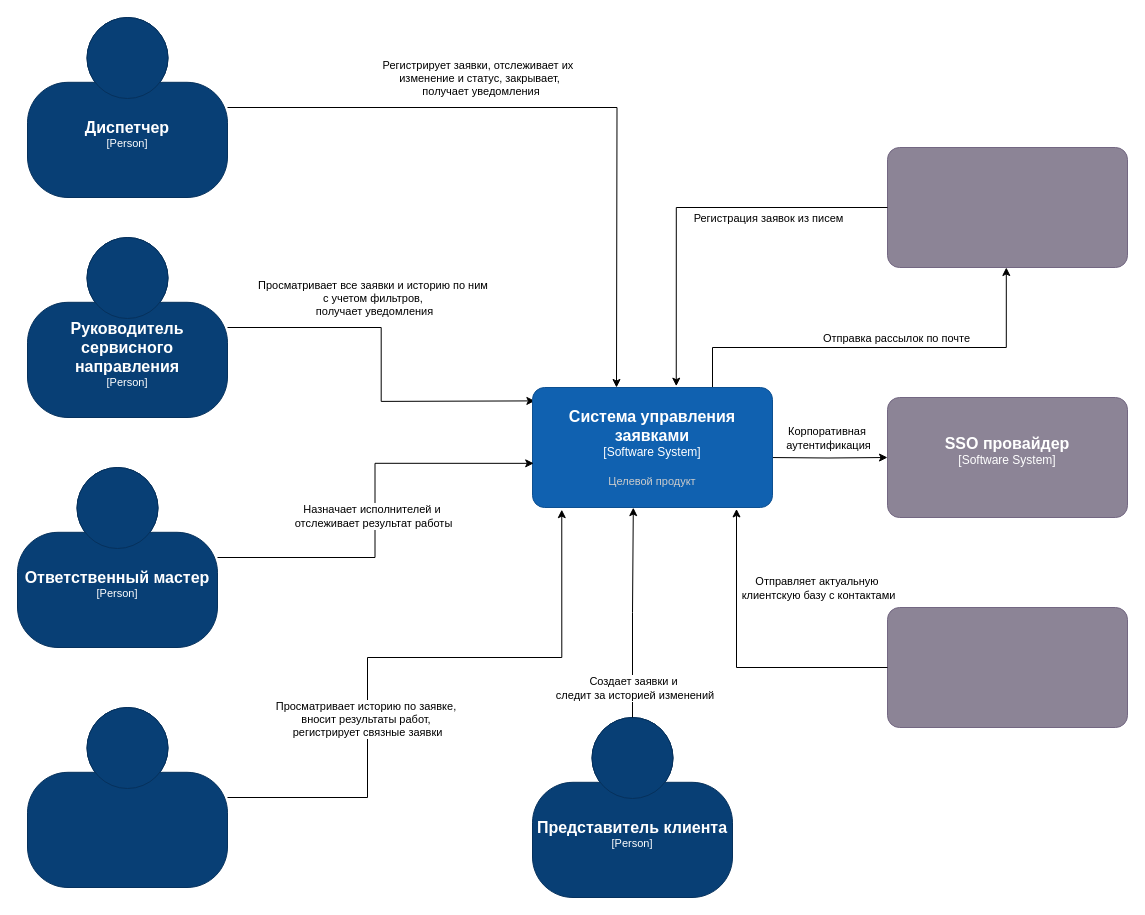
Image size: 1145x915. Some labels were removed from this diagram. The centre of each missing label's shape, as x and y in pixels:
CRM система [Software System]: (1007,667)
Email-провайдер [Software System]: (1007,207)
Исполнитель [Person]: (127,797)
